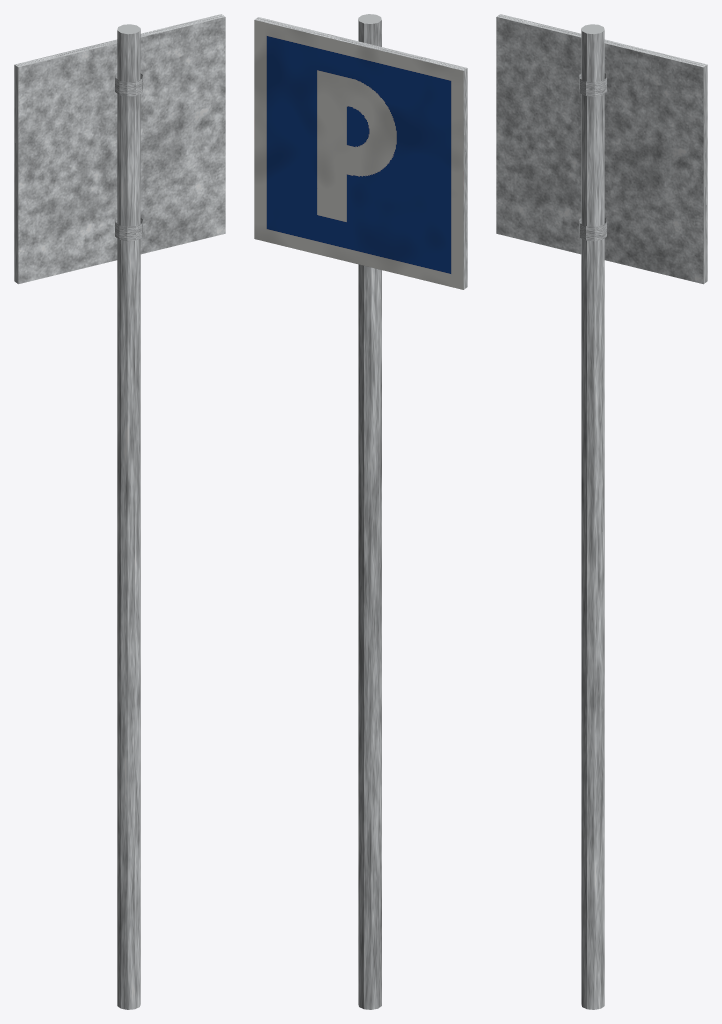
File: SM_Morin_CartelloP.fbx
3 renders of one model, left to right at view 1: azimuth 30°, elevation 25°; view 2: azimuth 150°, elevation 25°; view 3: azimuth 330°, elevation 25°, orthographic.
Visible parts, largest first — view 1: SM_Morin_CartelloP; view 2: SM_Morin_CartelloP; view 3: SM_Morin_CartelloP.
Boxes of the visible parts, left/top/right/bottom form: SM_Morin_CartelloP: left=14, top=14, right=225, bottom=1009; SM_Morin_CartelloP: left=254, top=14, right=467, bottom=1009; SM_Morin_CartelloP: left=496, top=14, right=707, bottom=1009.
Size of what is drawn, in the model's own units: 60 by 9.1 by 270.
Materials: 1 (1 with a texture image).
